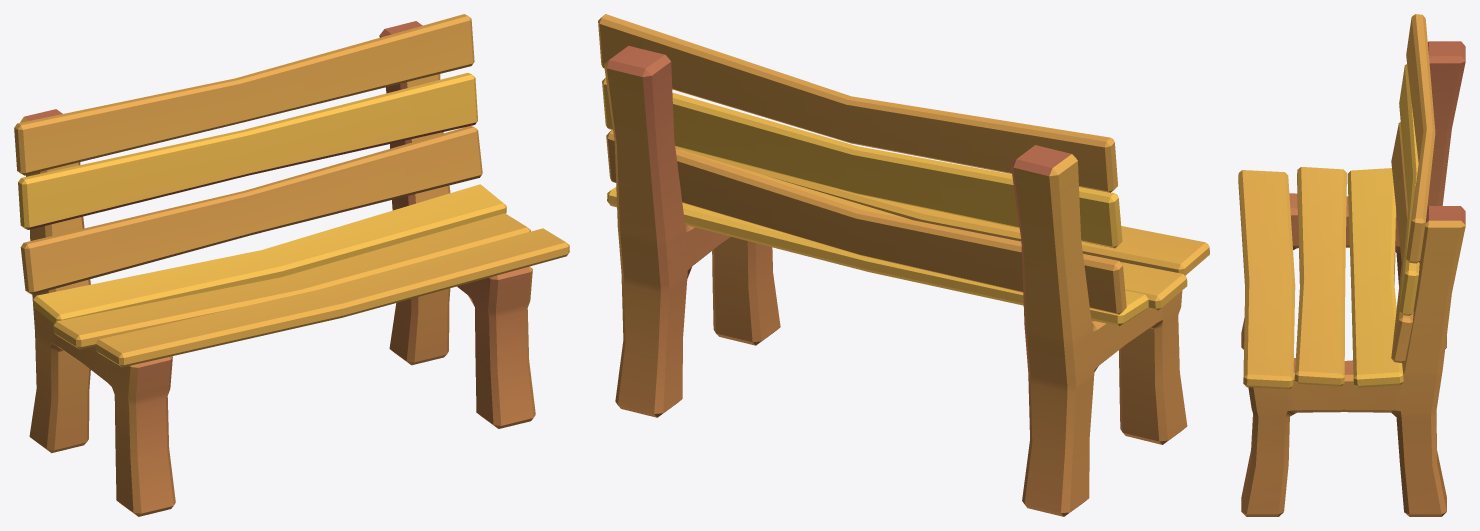
The model's file is Bench.fbx.
3 views of the same model, side by side, from view 1: azimuth 30°, elevation 25°; view 2: azimuth 150°, elevation 25°; view 3: azimuth 270°, elevation 25° (orthographic). The views are drawn at different scales.
Parts seen in each view (by area): view 1: Bench; view 2: Bench; view 3: Bench.
Part boxes in pixels (x1=…): Bench: x1=14, y1=14, x2=569, y2=516; Bench: x1=598, y1=14, x2=1209, y2=516; Bench: x1=1238, y1=14, x2=1465, y2=516.
Bounding box in the file's own units: 70.73 × 48.33 × 32.02.
1 material, 1 textured.
